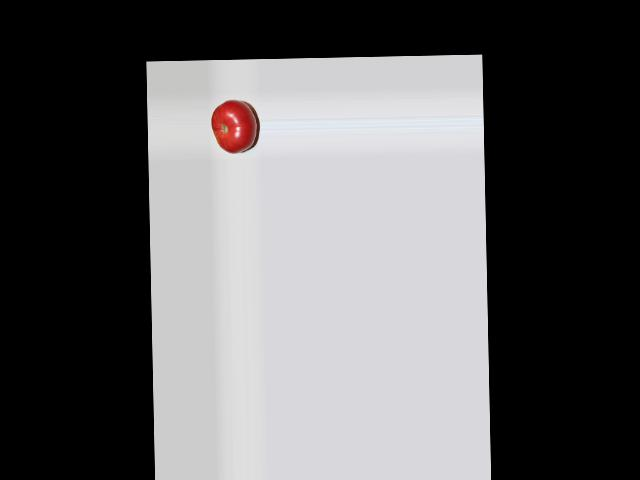tomato: (210, 98, 256, 154)
